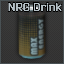Max Energy energy drink: (0, 0, 64, 64)
